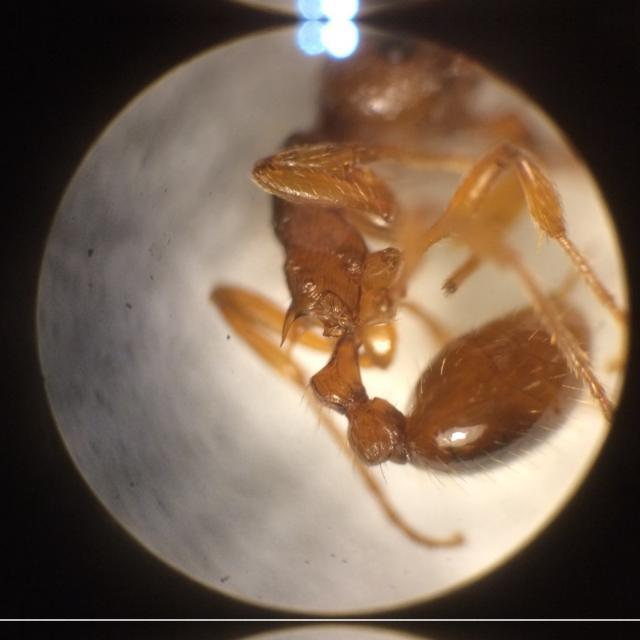Myrmica: (252, 20, 608, 496)
